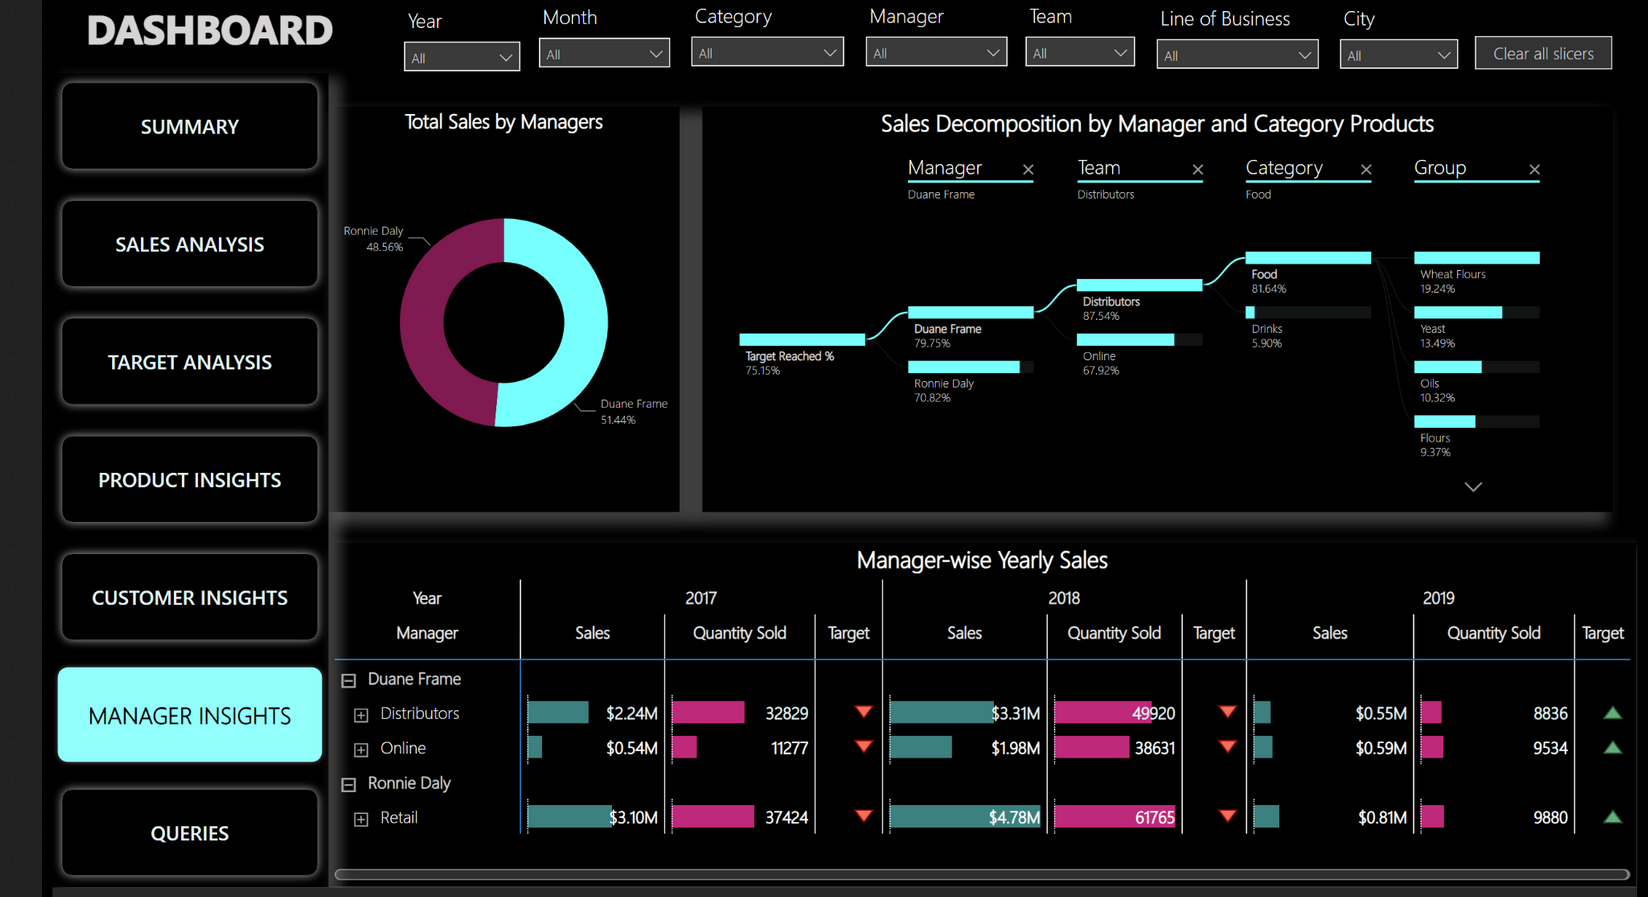

The page's visual inventory and layout, read from the dashboard file:
{"tool":"powerbi","page":{"name":"MANAGER INSIGHTS","canvas":[1280,720],"ordinal":5},"visuals":[{"type":"donutChart","title":"Total Sales by Managers","fields":{"Category":["sales_targets_analysis salespersons.Manager_name"],"Y":["sales_targets_analysis sales.Total Sales"]},"box":[222.9,89.6,283.3,327.1],"z":0},{"type":"textbox","box":[0,0,254.2,72.9],"z":2000},{"type":"group","id":"g1","title":"Group 4","box":[273.8,0,871.7,68.4],"z":3000},{"type":"decompositionTreeVisual","title":"Sales Decomposition by Manager and Category Products ","fields":{"ExplainBy":["sales_targets_analysis salespersons.Manager_name","sales_targets_analysis salespersons.Team_name","sales_targets_analysis product_groups.Category","sales_targets_analysis product_groups.Group_Name"],"Analyze":["sales_targets_analysis sales.Target Reached %"]},"box":[525,89.6,735.4,327.1],"z":4000},{"type":"actionButton","box":[1149.2,33.3,111.1,27],"z":5000},{"type":"pivotTable","title":"Manager-wise Yearly Sales","fields":{"Rows":["sales_targets_analysis salespersons.Manager_name","sales_targets_analysis salespersons.Team_name","sales_targets_analysis salespersons.Supervisor_name","sales_targets_analysis salespersons.SalesPerson_name"],"Values":["sales_targets_analysis sales.Total Sales","sales_targets_analysis sales.Total Quantity Sold","sales_targets_analysis targets.Target Status"],"Columns":["sales_targets_analysis dates.Month-Year.Variation.Date Hierarchy.Year","sales_targets_analysis dates.Month-Year.Variation.Date Hierarchy.Month"]},"box":[222.9,441.7,1056.2,277.1],"z":5001},{"type":"pageNavigator","box":[0,62.5,222.9,656.2],"z":5002},{"type":"slicer","fields":{"Values":["sales_targets_analysis dates.Month"]},"box":[382.4,1.2,126.2,67.2],"z":6000,"group":"g1"},{"type":"slicer","fields":{"Values":["sales_targets_analysis product_groups.Category"]},"box":[505.3,0,143.7,65.4],"z":13000,"group":"g1"},{"type":"slicer","fields":{"Values":["sales_targets_analysis salespersons.Manager_name"]},"box":[647.1,0,134.4,65.4],"z":14000,"group":"g1"},{"type":"slicer","fields":{"Values":["sales_targets_analysis salespersons.Team_name"]},"box":[775.9,0,108.3,65.4],"z":15000,"group":"g1"},{"type":"slicer","fields":{"Values":["sales_targets_analysis customers.Line_of_Business"]},"box":[882.3,1.9,151.2,65.4],"z":16000,"group":"g1"},{"type":"slicer","fields":{"Values":["sales_targets_analysis customers.City"]},"box":[1029.8,1.9,115.7,65.4],"z":17000,"group":"g1"},{"type":"slicer","fields":{"Values":["sales_targets_analysis dates.Year"]},"box":[273.8,3.7,113.9,61.7],"z":18000,"group":"g1"}]}

Visuals, with their boxes on the page's 1280x720 design canvas (x1, y1, x2, y2). These are canvas units, not pixel positions in the 1648x897 screenshot, which may show the page scaled, cropped or inside an application window:
"Total Sales by Managers" donutChart: BBox(223, 90, 506, 417)
textbox: BBox(0, 0, 254, 73)
"Group 4" group: BBox(274, 0, 1146, 68)
"Sales Decomposition by Manager and Category Products " decompositionTreeVisual: BBox(525, 90, 1260, 417)
actionButton: BBox(1149, 33, 1260, 60)
"Manager-wise Yearly Sales" pivotTable: BBox(223, 442, 1279, 719)
pageNavigator: BBox(0, 62, 223, 719)
slicer - sales_targets_analysis dates.Month: BBox(382, 1, 509, 68)
slicer - sales_targets_analysis product_groups.Category: BBox(505, 0, 649, 65)
slicer - sales_targets_analysis salespersons.Manager_name: BBox(647, 0, 782, 65)
slicer - sales_targets_analysis salespersons.Team_name: BBox(776, 0, 884, 65)
slicer - sales_targets_analysis customers.Line_of_Business: BBox(882, 2, 1034, 67)
slicer - sales_targets_analysis customers.City: BBox(1030, 2, 1146, 67)
slicer - sales_targets_analysis dates.Year: BBox(274, 4, 388, 65)
